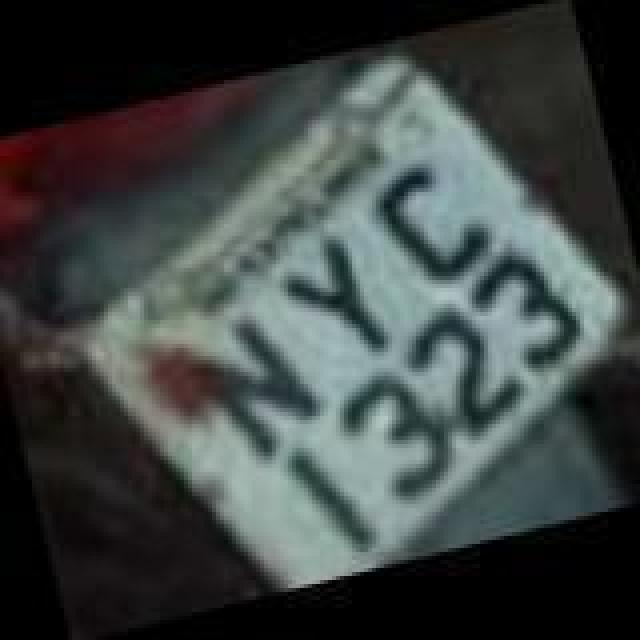1: (278, 430, 378, 562)
2: (398, 296, 530, 448)
3: (332, 358, 468, 514), (460, 236, 596, 388)
C: (366, 152, 498, 296)
N: (178, 300, 326, 468)
Y: (276, 224, 396, 368)
